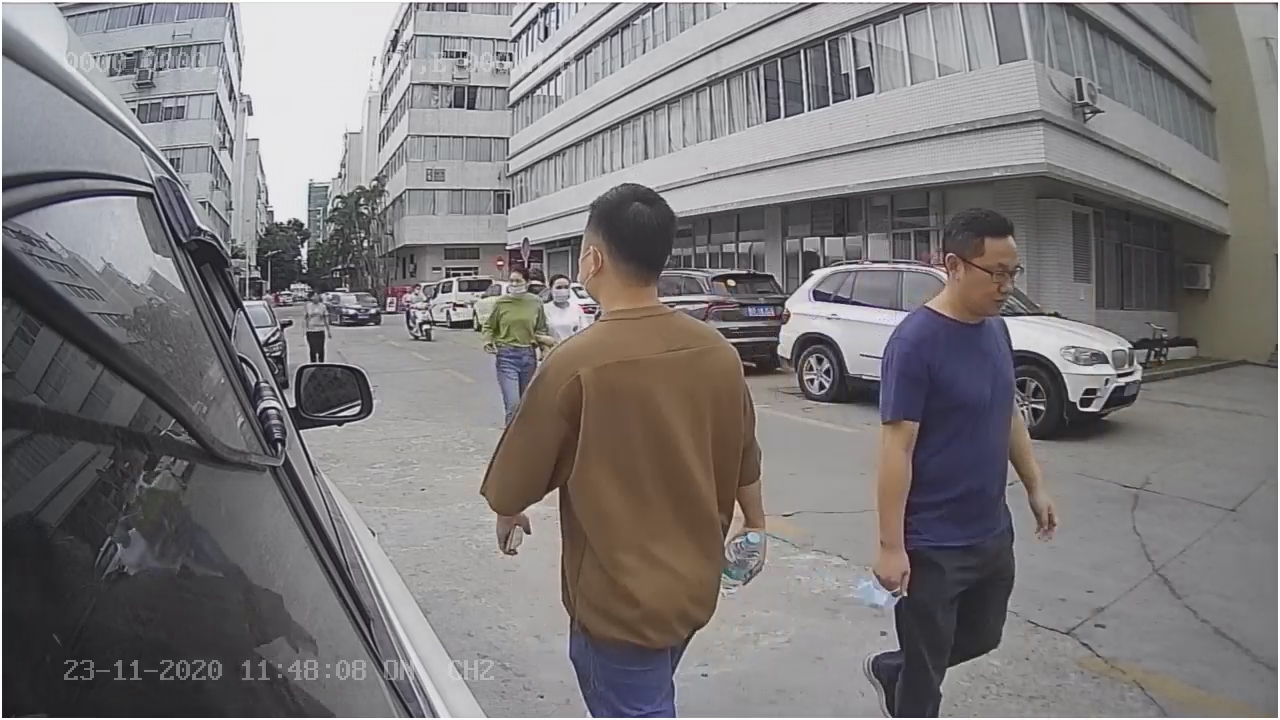person: (479, 185, 778, 720), (864, 202, 1058, 720)
